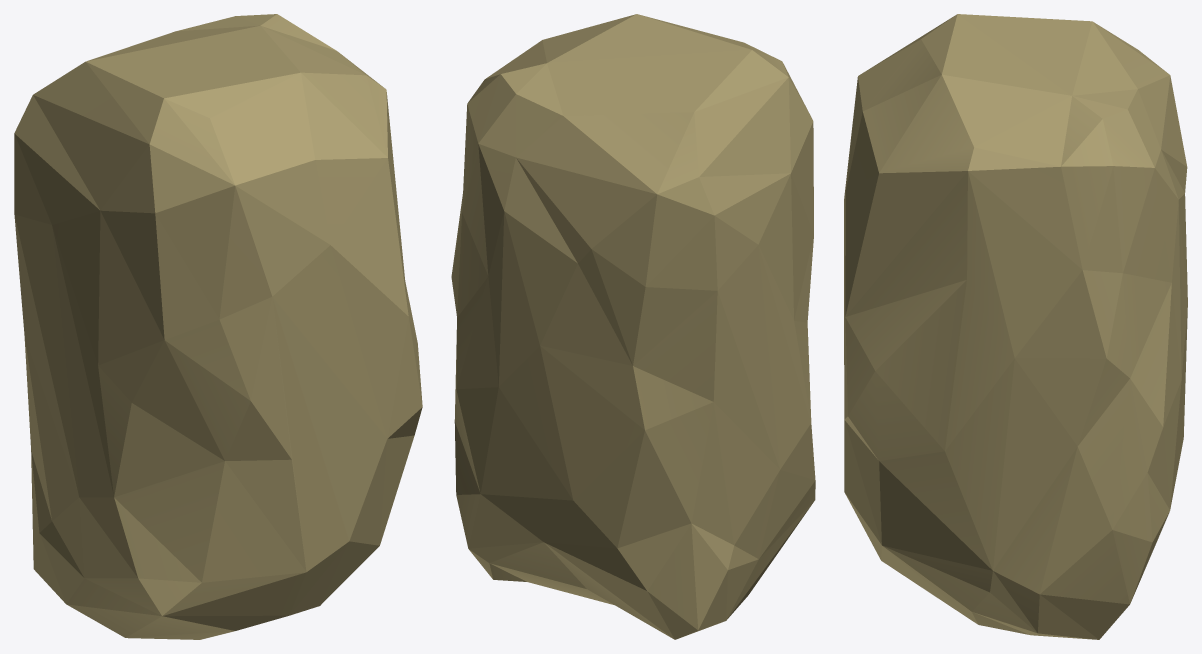
Rendered from SM_small_rock_12.fbx.
The picture shows the model from 3 angles, left to right: view 1: azimuth 30°, elevation 25°; view 2: azimuth 150°, elevation 25°; view 3: azimuth 270°, elevation 25°; orthographic projection. The views are drawn at different scales.
Parts seen in each view (by area): view 1: small_rock_12; view 2: small_rock_12; view 3: small_rock_12.
Part boxes in pixels (x1,y1,x2,y2): small_rock_12: [14, 14, 422, 639]; small_rock_12: [451, 14, 815, 639]; small_rock_12: [844, 14, 1187, 639].
Size of the model in its own units: 68.81 by 121 by 70.52.
